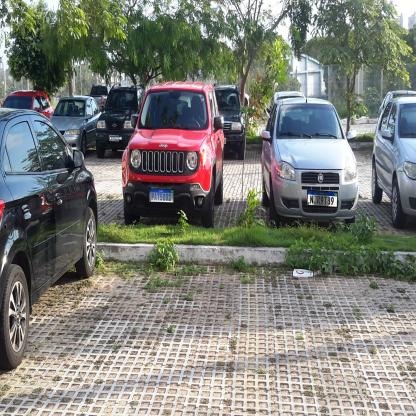PlacaM: (307, 190, 338, 208), (149, 188, 174, 204), (110, 136, 122, 140)
